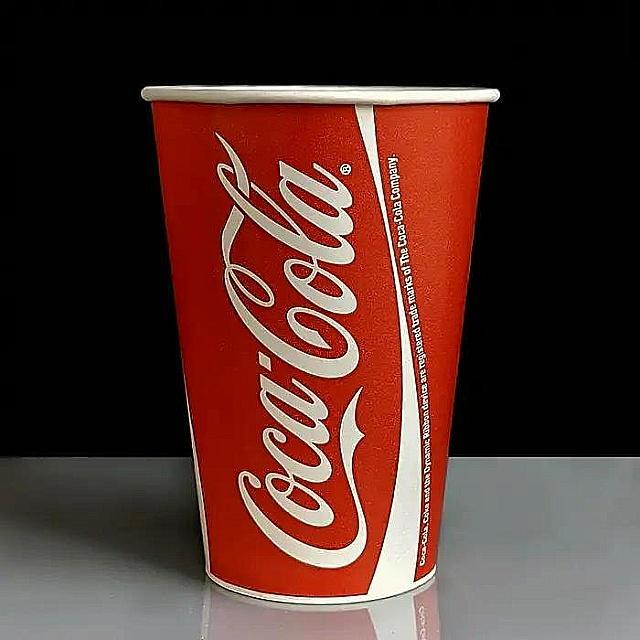paper_cup: (135, 72, 512, 630)
